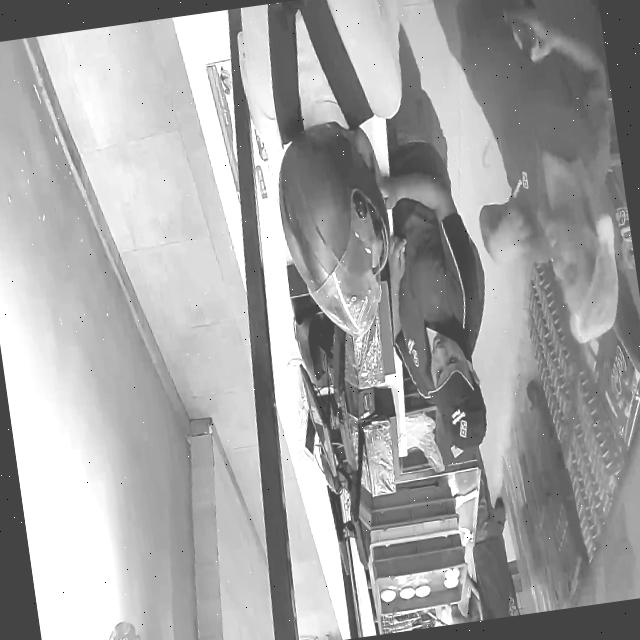helmet: (278, 120, 392, 337)
no_helmet: (545, 155, 619, 343), (429, 331, 488, 451)
